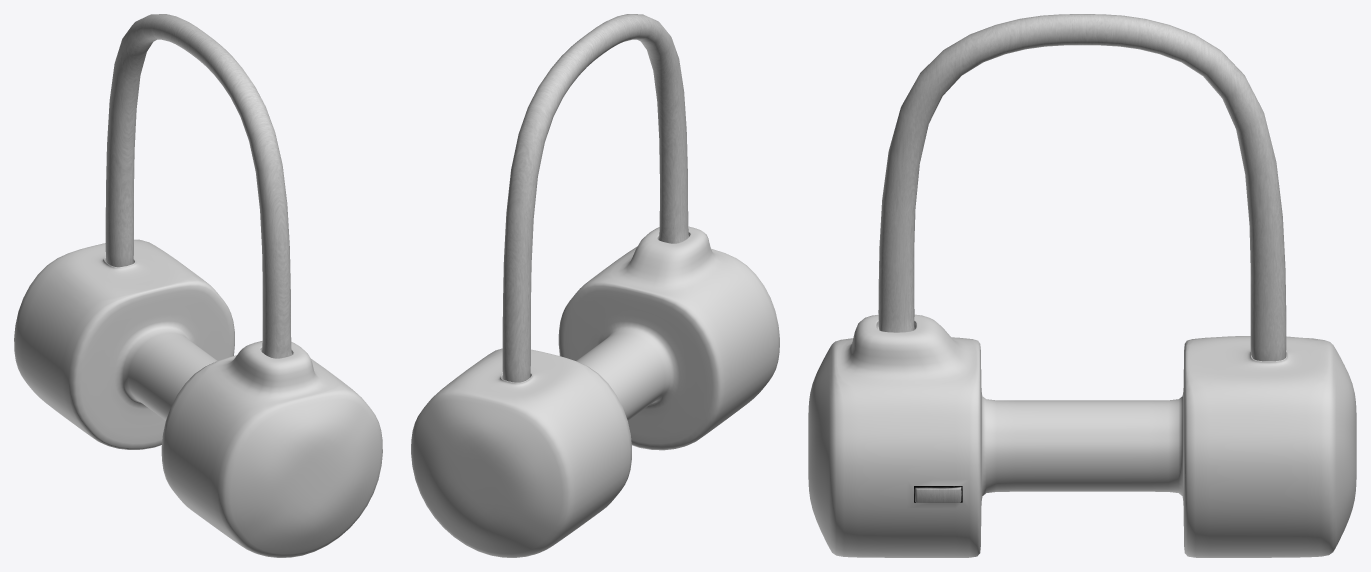
Rendered from Combo.fbx.
3 renders of one model, left to right at view 1: azimuth 30°, elevation 25°; view 2: azimuth 150°, elevation 25°; view 3: azimuth 270°, elevation 25°, orthographic. The views are drawn at different scales.
Visible parts, largest first — view 1: Combo; view 2: Combo; view 3: Combo.
Part boxes in pixels (box(x1,y1,x2,y2)): Combo: box(14, 14, 382, 557); Combo: box(411, 14, 779, 557); Combo: box(808, 14, 1356, 557).
Bounding box in the file's own units: 220 × 566 × 528.
